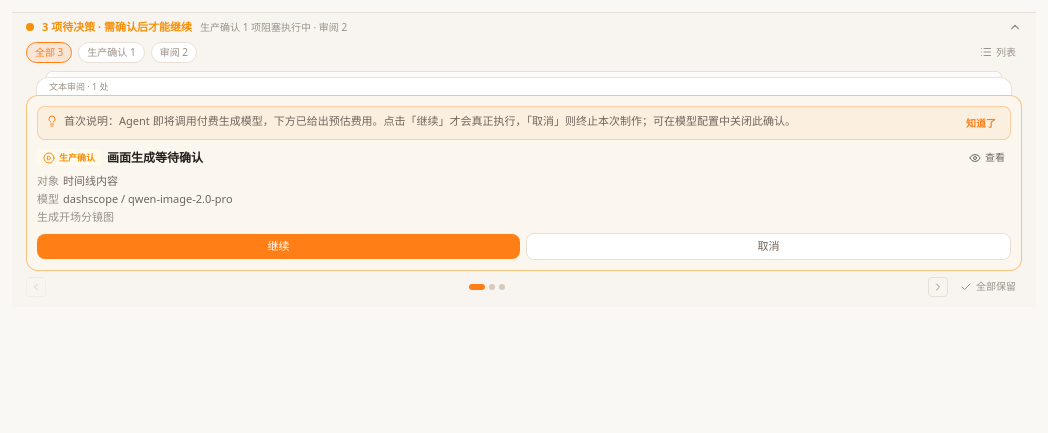
DecisionTray › shows every pending card at once in list mode
Click the button "列表".
click(998, 52)  # box [974,42,1022,62]
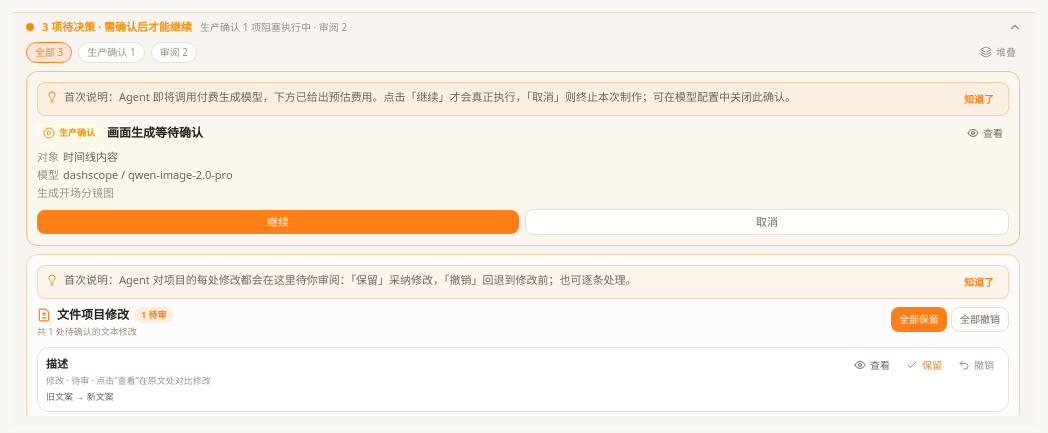
Expected: the text "生成开场分镜图" is shown, [37,184,114,200]
Result: the text "旧文案 → 新文案" is shown 2 times
Result: the button "堆叠" is shown at [974,42,1022,62]
